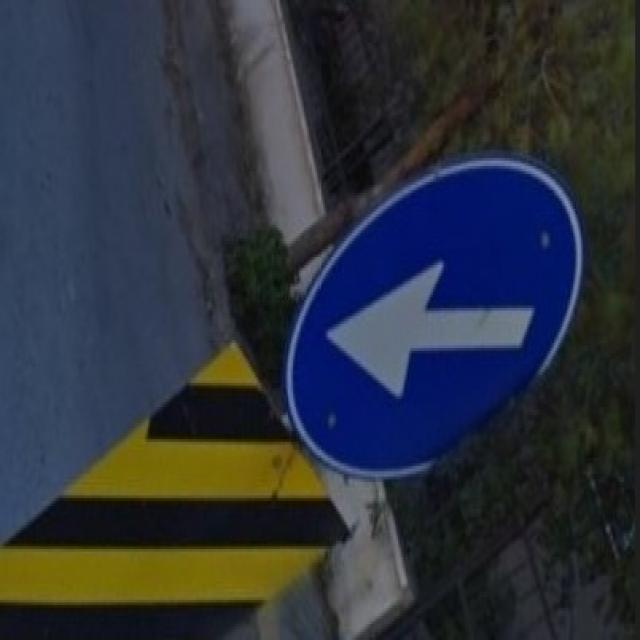Turn Left: (286, 172, 576, 478)
